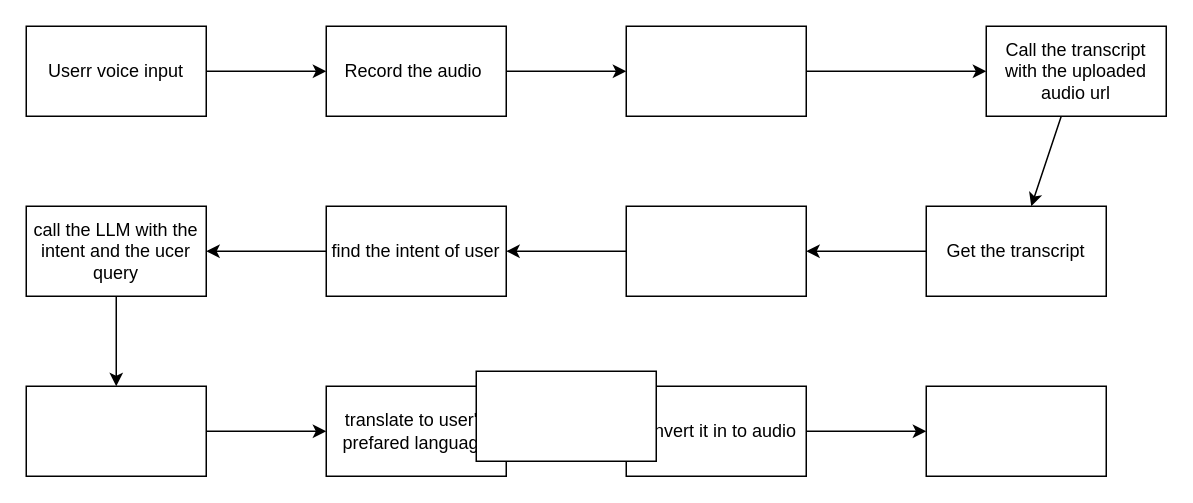
Some shapes in this 1193 by 503 pixel diagram are drawn without their labels. Here are the shapes that lost their labels. From the top down, the centre of each, then its label:
At (715,70): "Upload to S3 buucket".
At (715,250): "translate to english".
At (115,430): "get the LLM response".
At (1015,430): "Return output to user".
